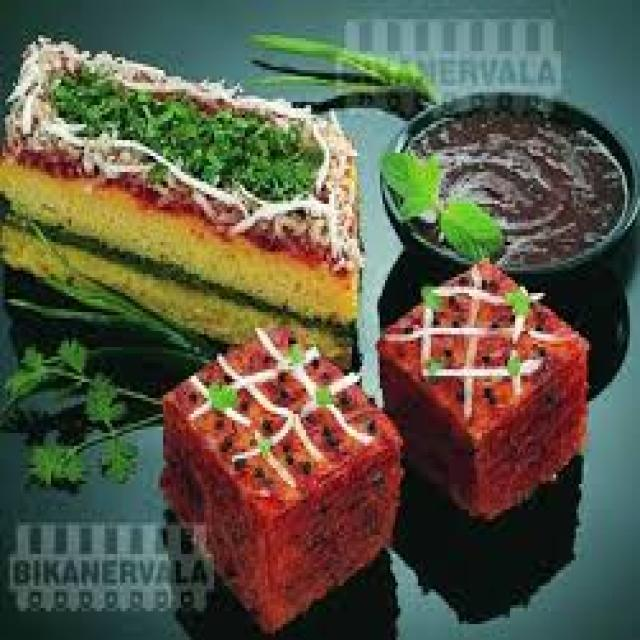DHOKLA: (163, 328, 398, 627), (380, 261, 586, 516)
